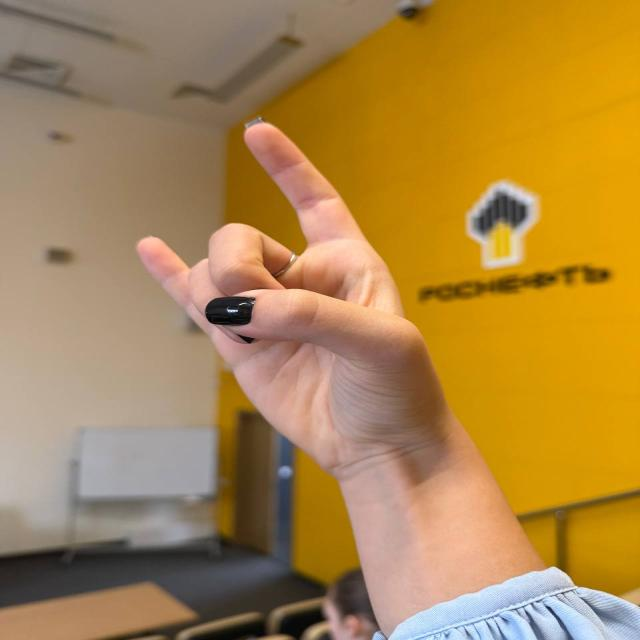y: (138, 109, 458, 454)
